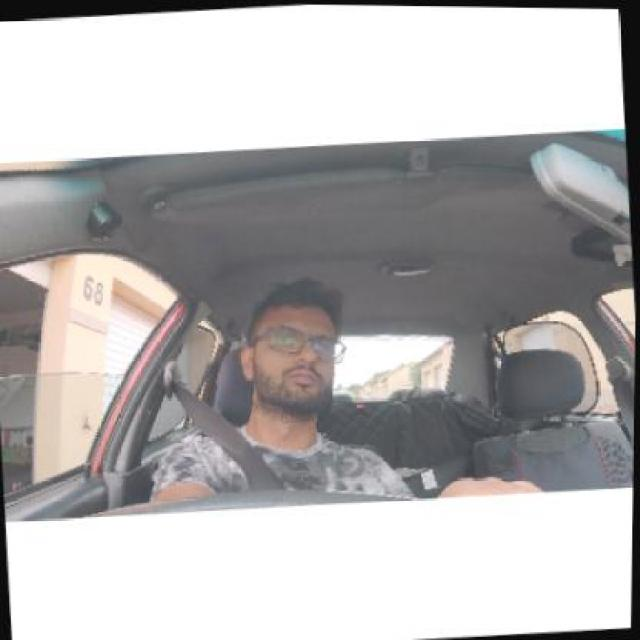person: (238, 276, 352, 424)
